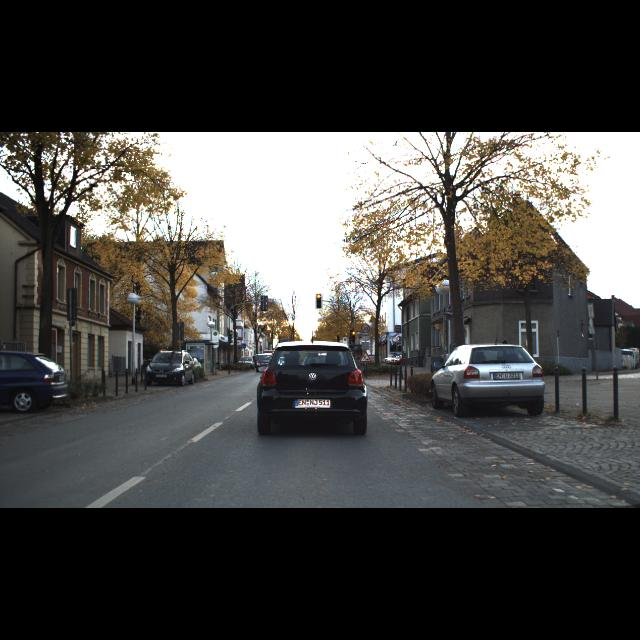danger: (358, 351, 372, 363)
prohibitory: (362, 324, 371, 334)
